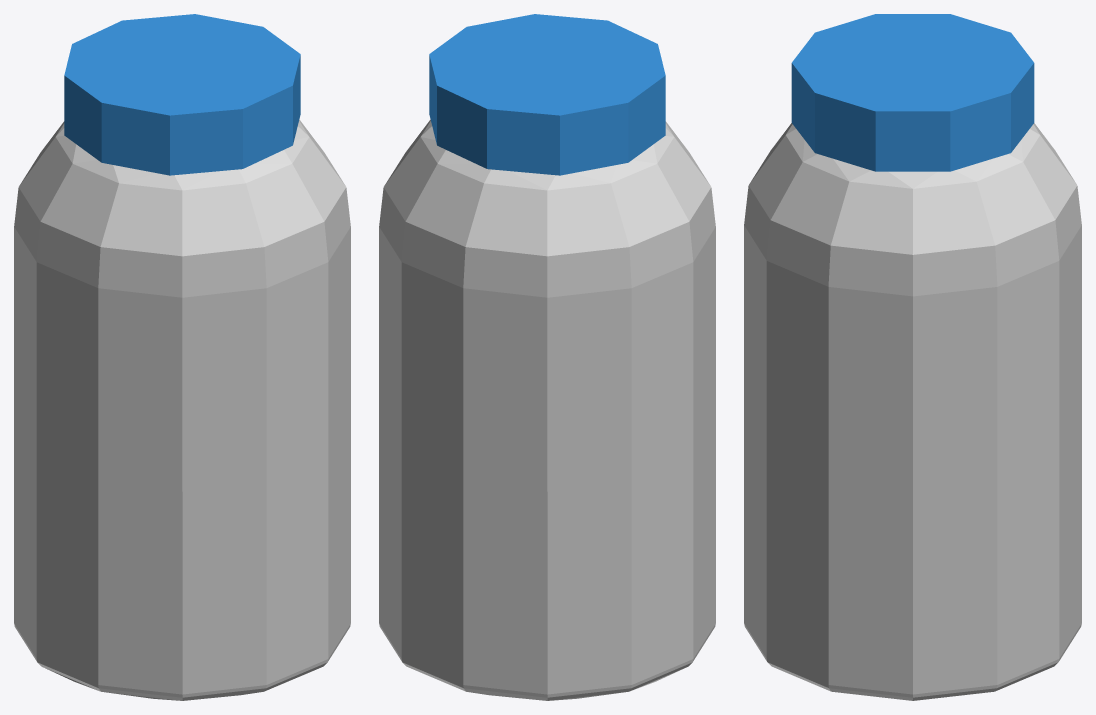
Rendered from Healing-Item-Pills.fbx.
3 renders of one model, left to right at view 1: azimuth 30°, elevation 25°; view 2: azimuth 150°, elevation 25°; view 3: azimuth 270°, elevation 25°, orthographic.
Parts seen in each view (by area): view 1: Healing-Item-Pills; view 2: Healing-Item-Pills; view 3: Healing-Item-Pills.
Boxes of the visible parts, <box> form: Healing-Item-Pills: <box>14,14,350,700</box>; Healing-Item-Pills: <box>379,14,715,700</box>; Healing-Item-Pills: <box>744,14,1081,700</box>.
Size of the model in its own units: 150 by 280 by 150.
